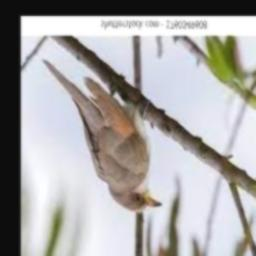Cuckoo: (42, 59, 162, 212)
